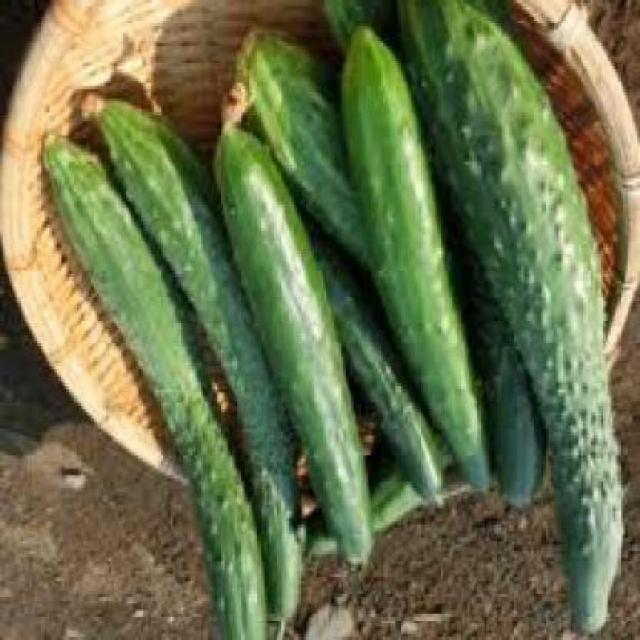BIODEGRADABLE: (402, 0, 623, 635), (97, 101, 306, 621), (49, 145, 257, 640), (211, 129, 372, 565), (340, 28, 486, 480), (322, 245, 445, 502), (249, 38, 368, 260), (468, 257, 548, 509), (365, 452, 426, 537), (326, 0, 403, 63)
